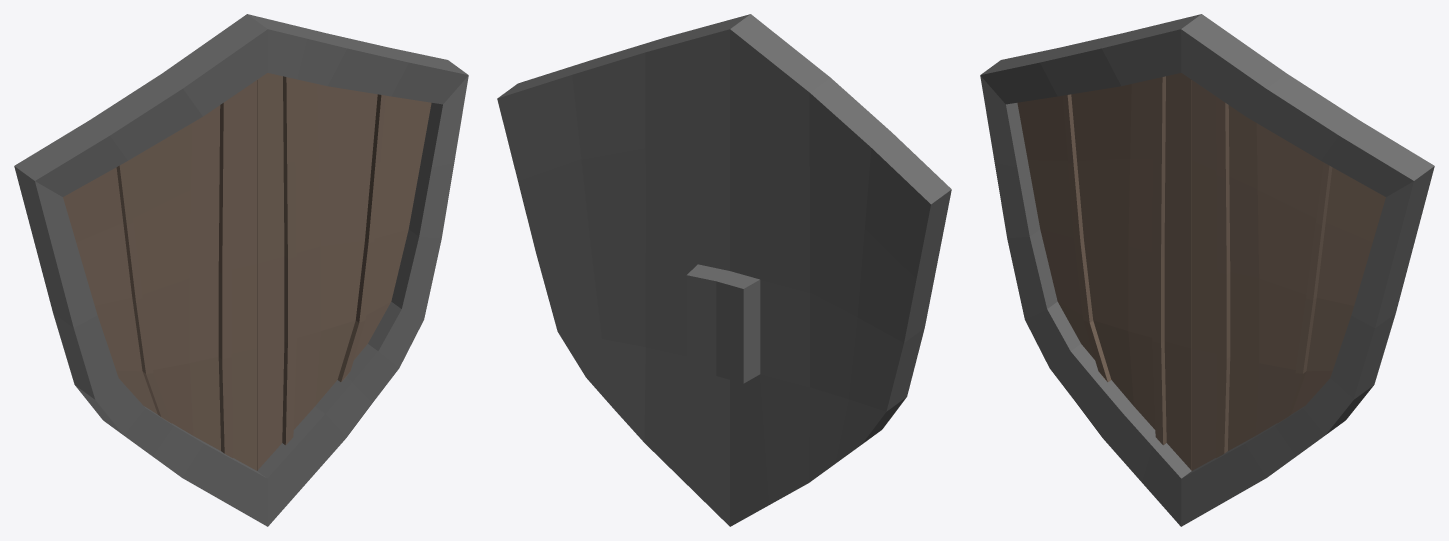
The model's file is BS_KnightShield.fbx.
3 renders of one model, left to right at view 1: azimuth 30°, elevation 25°; view 2: azimuth 150°, elevation 25°; view 3: azimuth 330°, elevation 25°, orthographic.
Parts seen in each view (by area): view 1: Cube.001; view 2: Cube.001; view 3: Cube.001.
Part boxes in pixels (x1,y1,x2,y2): Cube.001: (14,14,468,526); Cube.001: (497,14,951,526); Cube.001: (980,14,1434,526).
Bounding box in the file's own units: 899 × 985 × 132.
